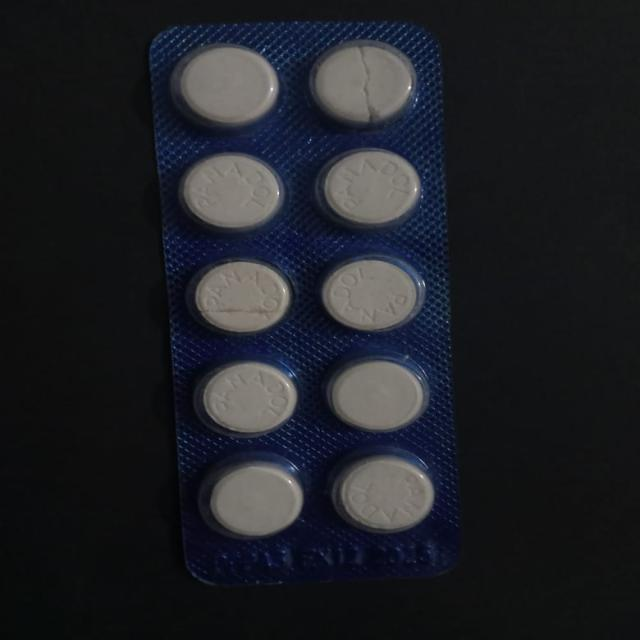defect: (303, 40, 422, 132), (188, 256, 298, 337)
